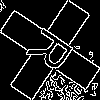R: (25, 25, 83, 80)
